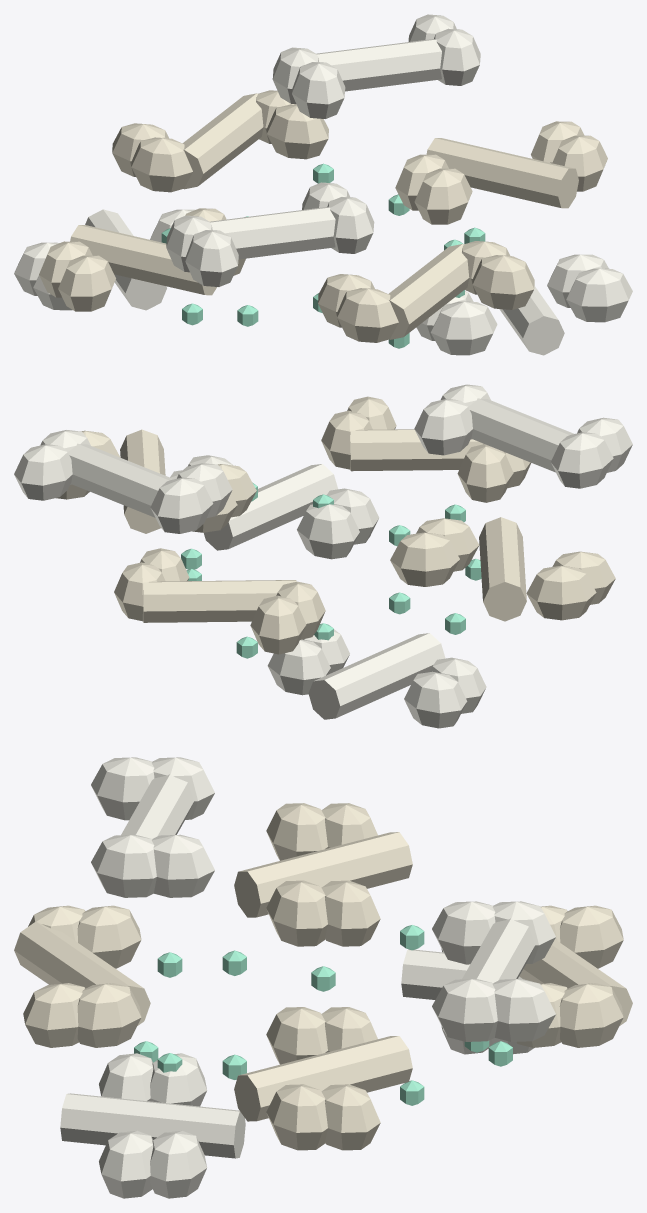
File: boneswarm.glb
3 views of the same model, one above another, from view 1: azimuth 30°, elevation 25°; view 2: azimuth 150°, elevation 25°; view 3: azimuth 270°, elevation 25° (orthographic). The views are drawn at different scales.
Parts seen in each view (by area): view 1: boneswarm; view 2: boneswarm; view 3: boneswarm.
Boxes of the visible parts, x1,y1,x2,y2 form: boneswarm: (14, 14, 632, 355); boneswarm: (14, 384, 632, 728); boneswarm: (14, 757, 632, 1198).
Size of the model in its own units: 1.61 by 0.52 by 1.35.
